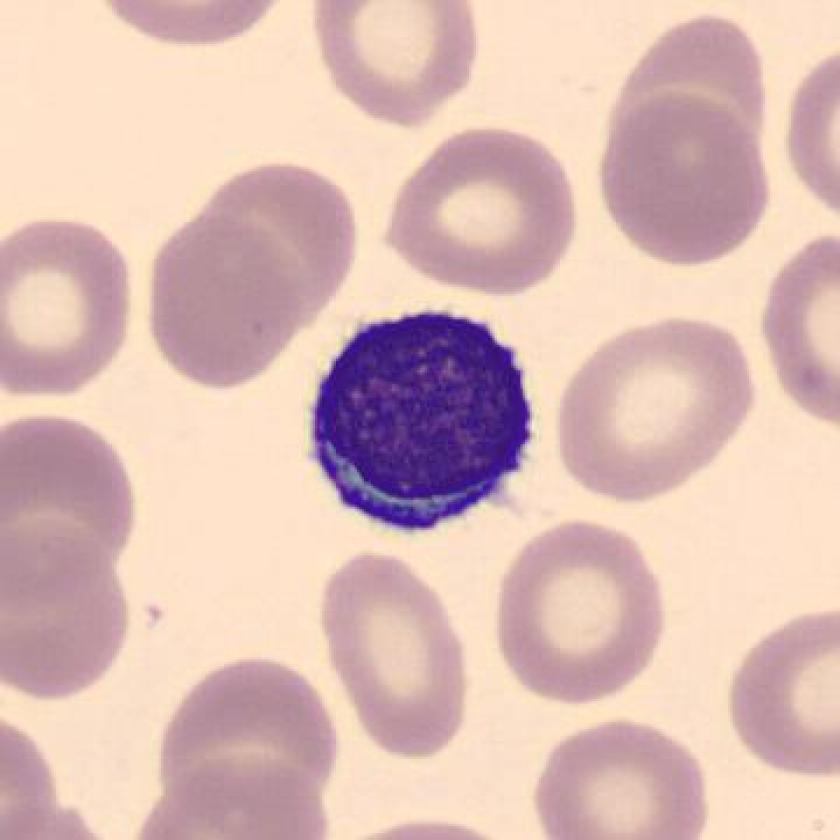lymphocyte: (293, 293, 547, 554)
